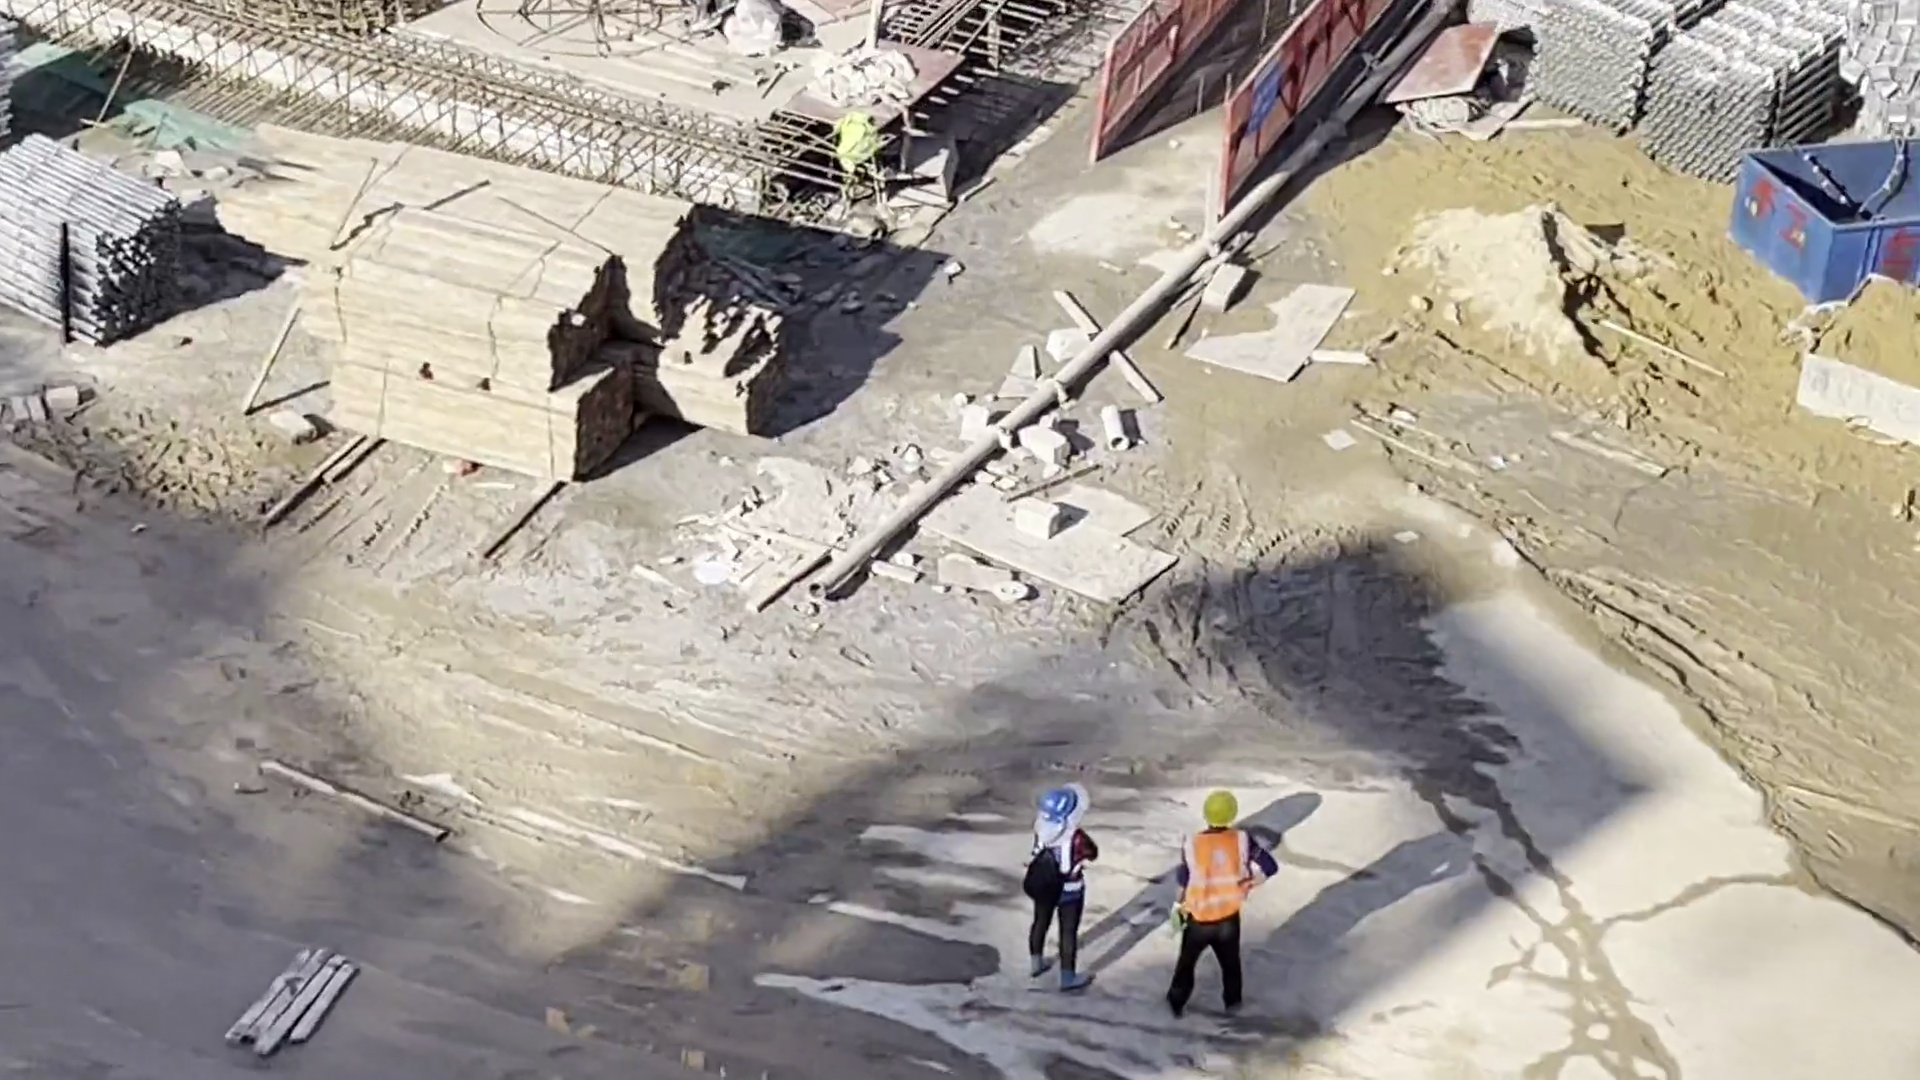fence: (1101, 1, 1397, 156)
helmet: (1202, 792, 1238, 827), (1040, 791, 1078, 820)
hopper: (1735, 134, 1920, 306), (1802, 274, 1920, 439)
person: (1166, 791, 1256, 1024), (1023, 787, 1097, 992)
scaffold: (1533, 1, 1851, 166), (1, 140, 181, 338)
slogan: (1251, 53, 1281, 131)
vest: (1183, 831, 1252, 924), (1038, 829, 1081, 899)
wood: (261, 157, 694, 354), (317, 222, 633, 479)
